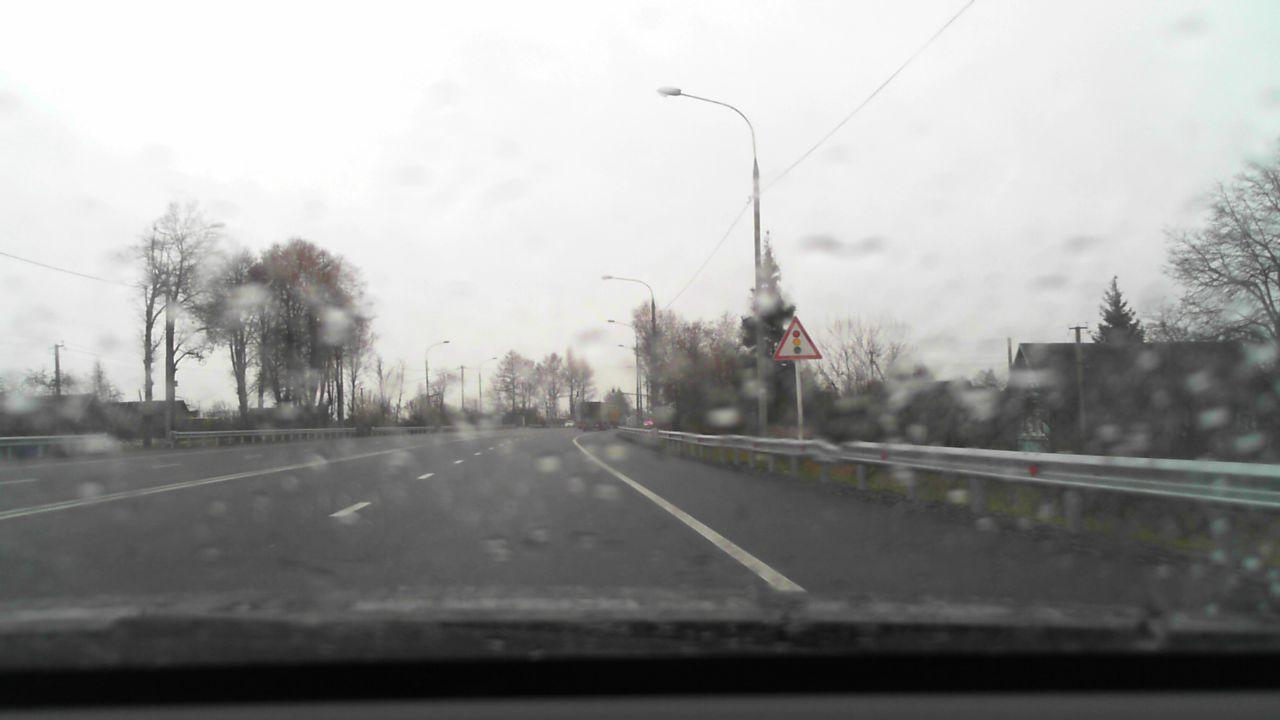1_8: (772, 316, 822, 360)
